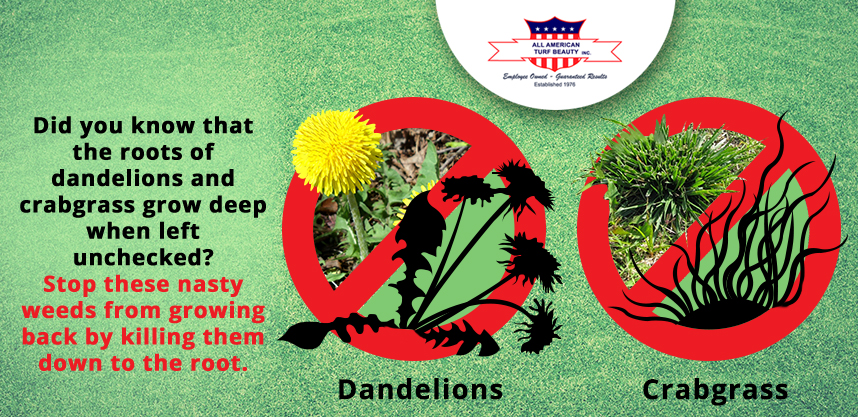crabgrass: (578, 106, 743, 252)
